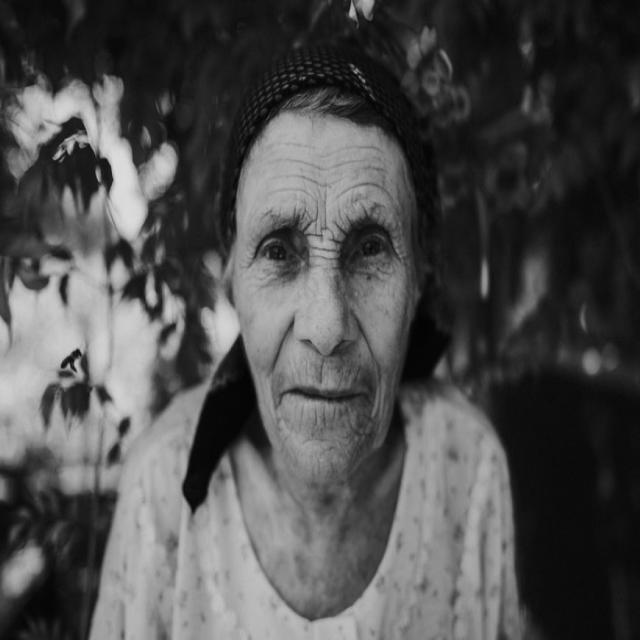Wrinkles: (345, 183, 391, 197), (271, 188, 315, 200), (309, 177, 344, 186), (354, 146, 385, 153), (316, 151, 342, 157), (266, 159, 290, 165), (284, 144, 318, 148), (307, 163, 326, 170), (342, 160, 367, 164), (326, 164, 342, 170), (290, 160, 307, 163)
